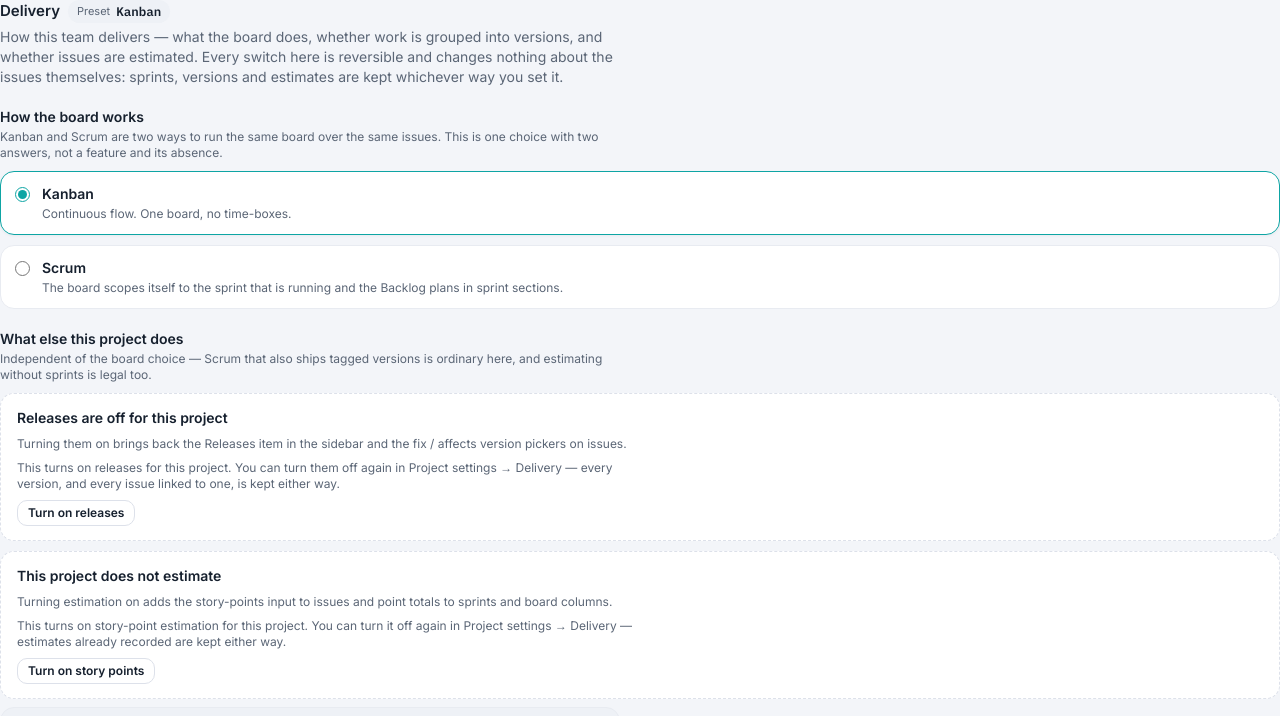
Test: Delivery tab — the outcome of a save (ex-Board tab) › confirms a successful switch, and says every surface already follows it
This screenshot has width=1280, height=716.
Step 1. Click the radio button labelled "Scrum" → (22, 268), box [15, 261, 30, 276]
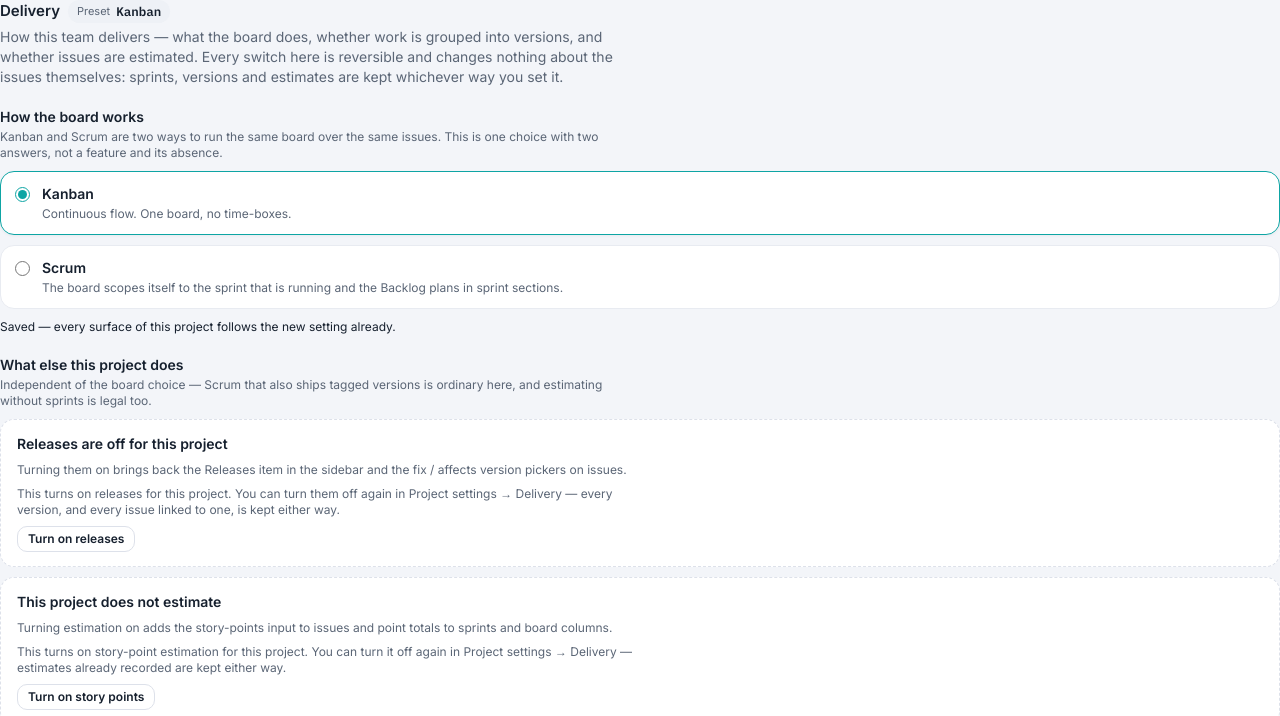
Result: the text "Saved — every surface of this project follows" is shown at [0, 319, 396, 334]
